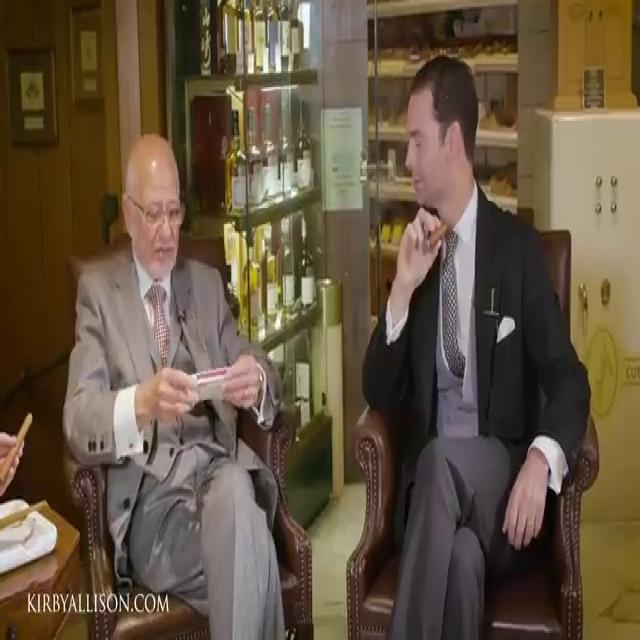Smooking: (415, 212, 455, 254)
